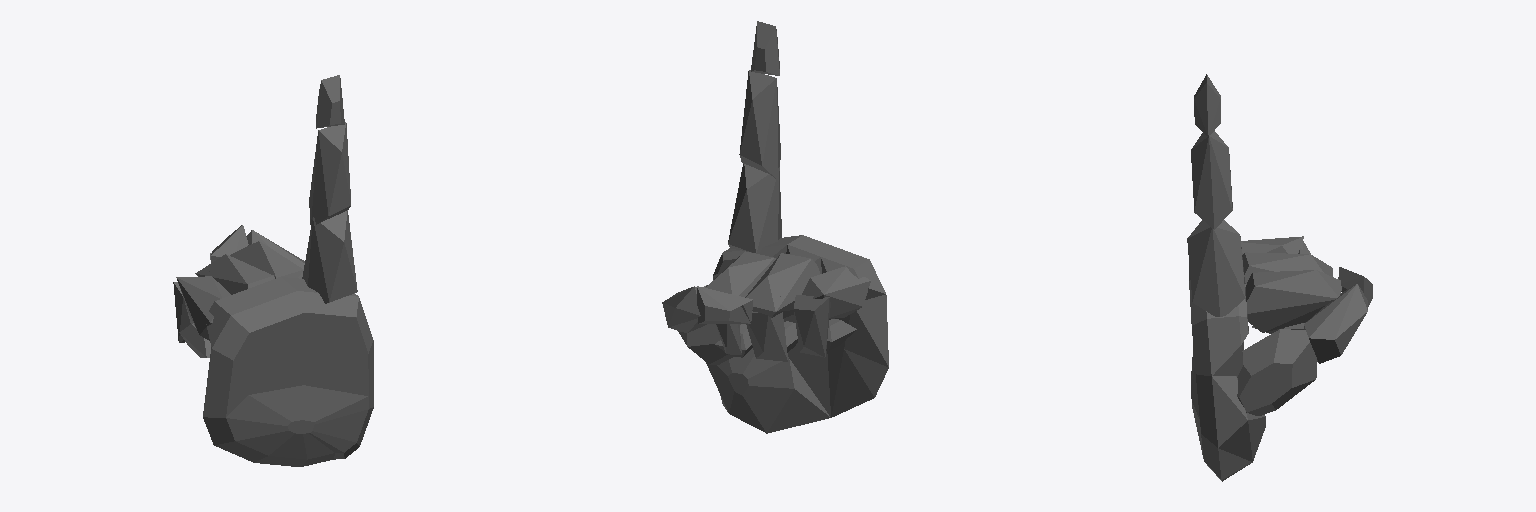
The model's file is RightHand.obj.
The picture shows the model from 3 angles: view 1: azimuth 30°, elevation 25°; view 2: azimuth 150°, elevation 25°; view 3: azimuth 270°, elevation 25°; orthographic projection.
Visible parts, largest first — view 1: group_9_ID33; view 2: group_9_ID33; view 3: group_9_ID33.
Part boxes in pixels (left/top/right/bottom): group_9_ID33: left=173, top=75, right=373, bottom=466; group_9_ID33: left=662, top=21, right=888, bottom=433; group_9_ID33: left=1187, top=74, right=1372, bottom=481.
Size of the model in its own units: 1.01 by 2.18 by 0.933.